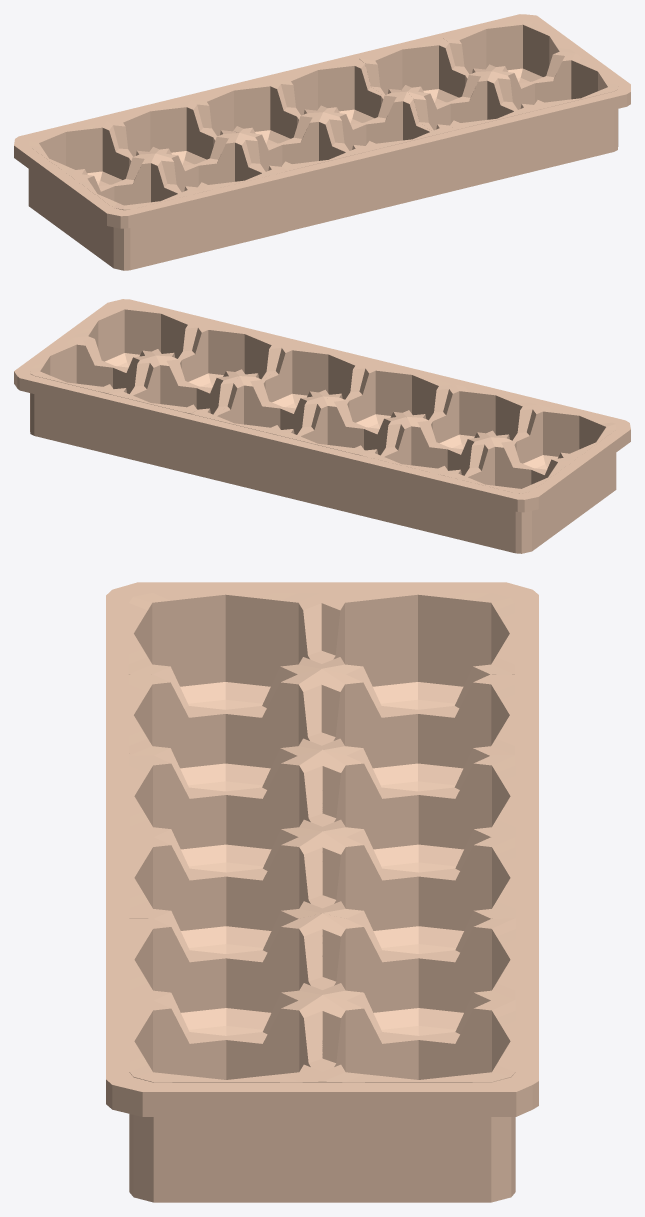
The model's file is EggCarton.fbx.
3 views of the same model, one above another, from view 1: azimuth 30°, elevation 25°; view 2: azimuth 150°, elevation 25°; view 3: azimuth 270°, elevation 25° (orthographic). The views are drawn at different scales.
Parts seen in each view (by area): view 1: EggCarton; view 2: EggCarton; view 3: EggCarton.
Part boxes in pixels (x1,y1,x2,y2): EggCarton: [14, 14, 630, 270]; EggCarton: [14, 299, 630, 553]; EggCarton: [106, 582, 538, 1202].
Size of the model in its own units: 1071 by 124 by 384.
